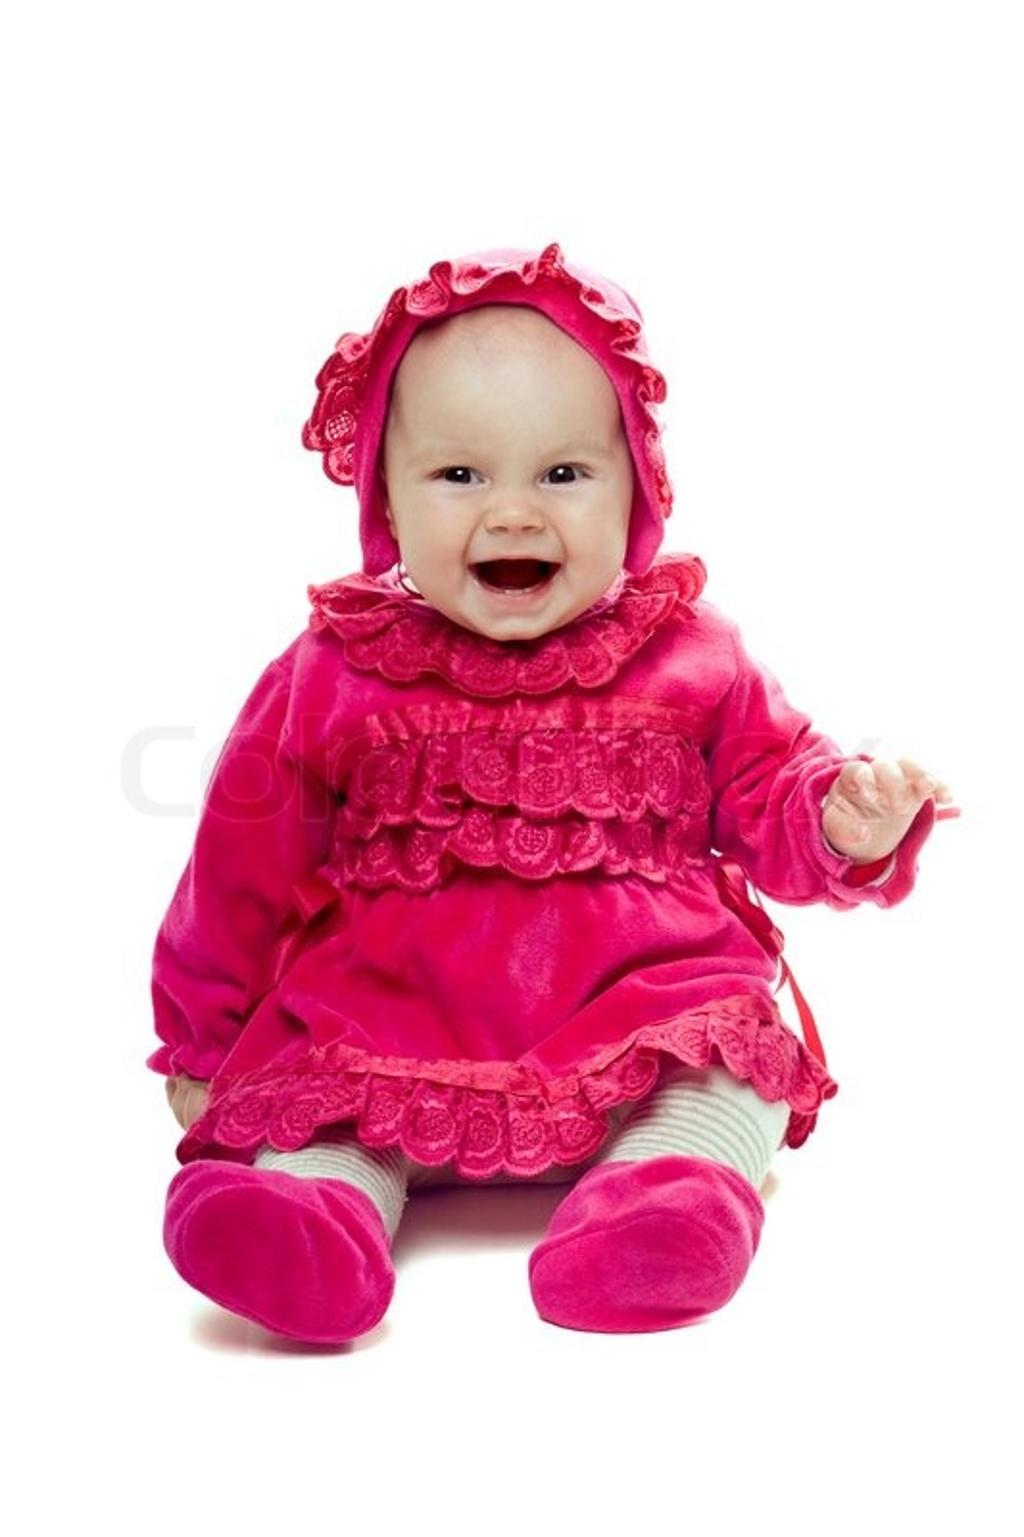face: (384, 315, 633, 636)
